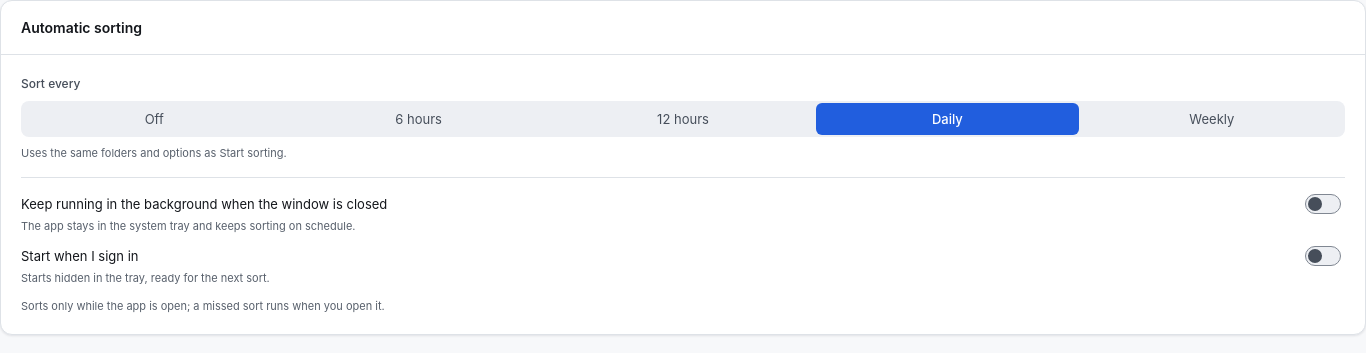
Test: ScheduleCard › offers the background switches on the desktop while a schedule is on
Expected: the switch named "Start when I sign in" in the row of "Start when I sign in" is shown, [1301,240,1345,272]
Expected: the text "Sorts only while the app is open; a missed sort runs when you open it." is shown, [21,299,385,313]
Click the radio button labelled "Off": (154, 119) [23,103,285,135]
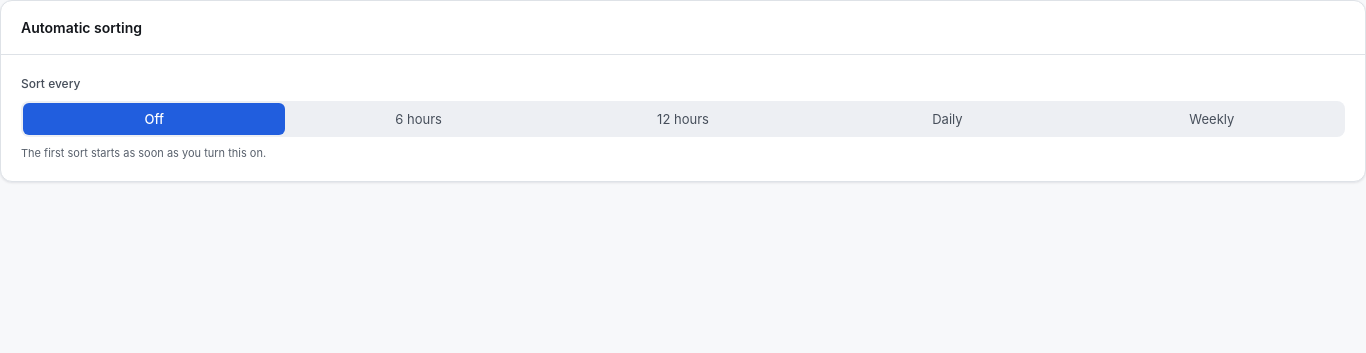
Now the switch is gone
